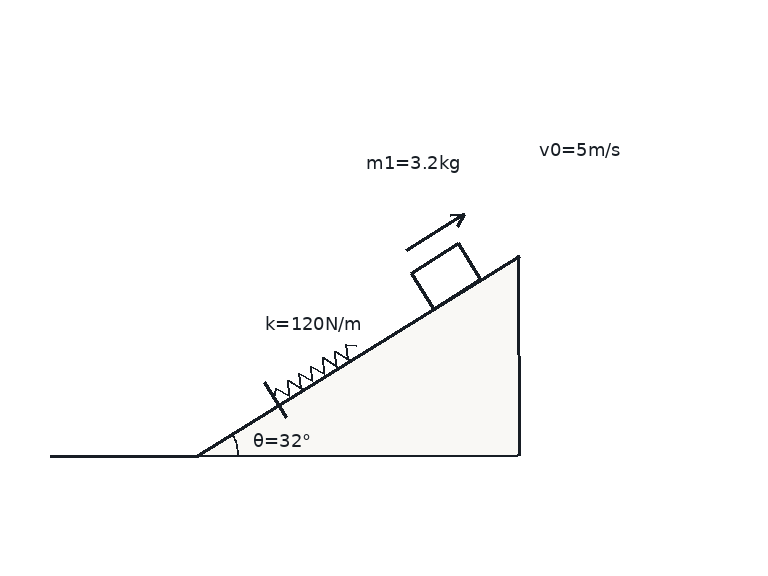block: (409, 242, 482, 310)
ramp: (196, 253, 520, 457)
spring: (271, 341, 358, 399)
